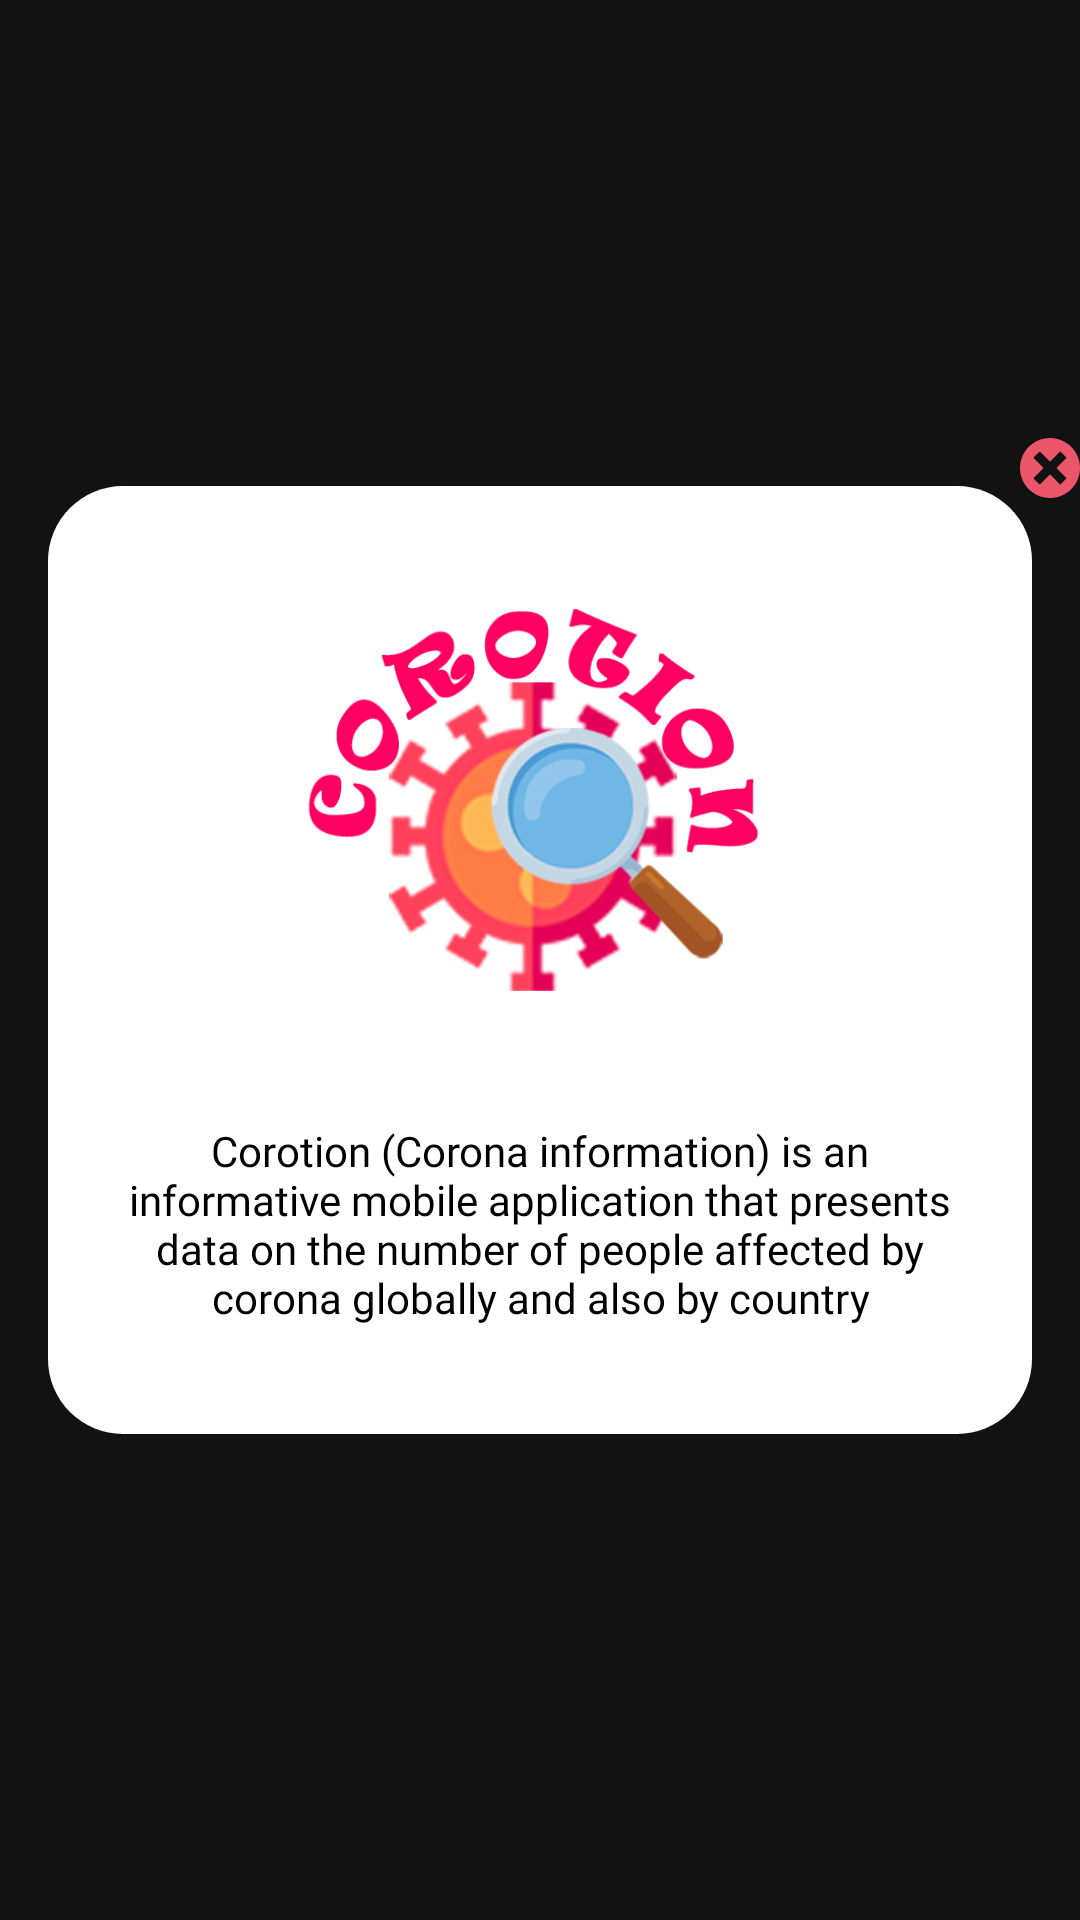

Named icons in this screenshot (1080 x 1920) and their bounding boxes, (x1, y1, x2, y2):
close: (1020, 438, 1080, 498)
